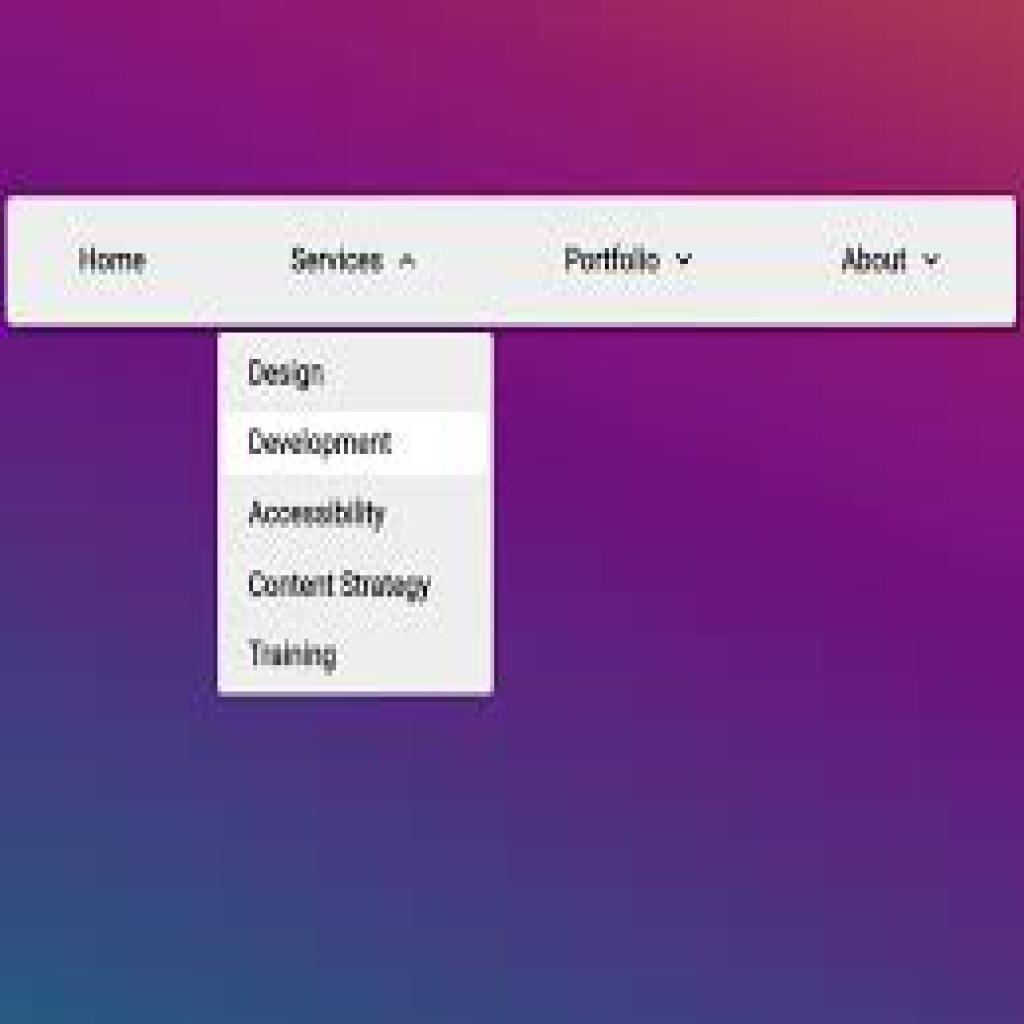button: (220, 412, 494, 477)
icon: (671, 244, 701, 276), (392, 249, 425, 277), (919, 247, 947, 272)
label: (245, 565, 440, 611), (247, 494, 394, 540), (244, 635, 342, 678), (288, 245, 390, 284), (242, 351, 334, 393), (559, 242, 665, 277), (77, 244, 155, 283), (838, 239, 909, 276)
